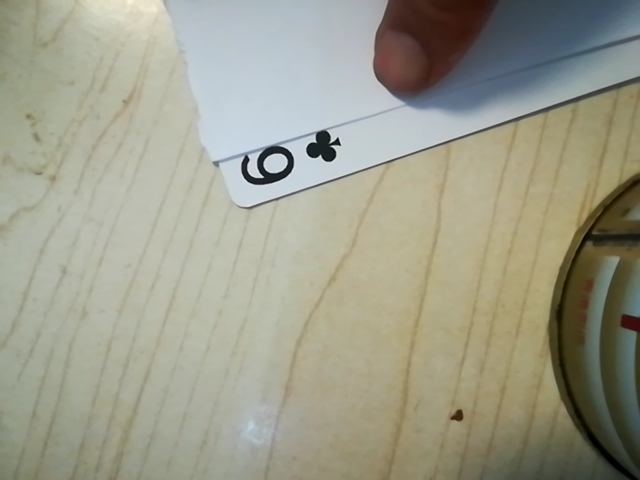mh 6: (224, 122, 357, 198)
